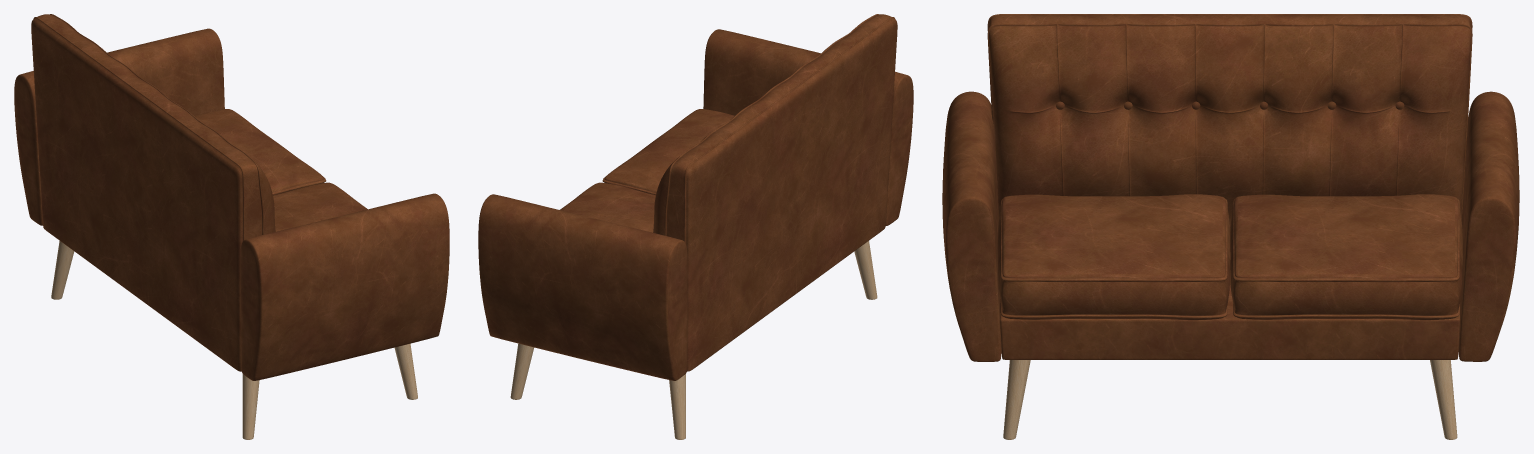
The model's file is 02_MID_SOFA_LEATHER_WIP_2K_v03.gltf.
The picture shows the model from 3 angles, left to right: view 1: azimuth 30°, elevation 25°; view 2: azimuth 150°, elevation 25°; view 3: azimuth 270°, elevation 25°; orthographic projection. The views are drawn at different scales.
Parts seen in each view (by area): view 1: Back.009, Left_Arm.002, Left_Arm.003, Left_Seat.007, Left_Seat.006, Leg01.002, Leg02.002, Leg03.002; view 2: Back.009, Left_Arm.003, Left_Arm.002, Left_Seat.006, Left_Seat.007, Leg03.002, Leg04.002, Leg01.002; view 3: Back.009, Left_Seat.006, Left_Seat.007, Bottom.002, Left_Arm.003, Left_Arm.002, Leg04.002, Leg02.002.
Boxes of the visible parts, <box> form: Back.009: <box>31,14,275,371</box>; Left_Arm.002: <box>240,193,449,380</box>; Left_Arm.003: <box>14,28,224,225</box>; Left_Seat.007: <box>194,109,326,195</box>; Left_Seat.006: <box>273,182,367,231</box>; Leg01.002: <box>242,374,259,439</box>; Leg02.002: <box>394,343,417,399</box>; Leg03.002: <box>51,241,74,299</box>; Back.009: <box>653,14,897,371</box>; Left_Arm.003: <box>478,194,687,380</box>; Left_Arm.002: <box>703,29,913,225</box>; Left_Seat.006: <box>602,109,734,195</box>; Left_Seat.007: <box>560,182,655,232</box>; Leg03.002: <box>669,374,685,439</box>; Leg04.002: <box>510,343,534,399</box>; Leg01.002: <box>854,241,877,299</box>; Back.009: <box>987,14,1472,227</box>; Left_Seat.006: <box>997,194,1230,320</box>; Left_Seat.007: <box>1230,194,1463,320</box>; Bottom.002: <box>1000,270,1460,359</box>; Left_Arm.003: <box>1458,91,1519,361</box>; Left_Arm.002: <box>942,91,1001,361</box>; Leg04.002: <box>1430,360,1457,439</box>; Leg02.002: <box>1003,360,1030,439</box>.
Bounding box in the file's own units: 0.8267 × 1.12 × 1.8.
6 materials, 6 textured.
